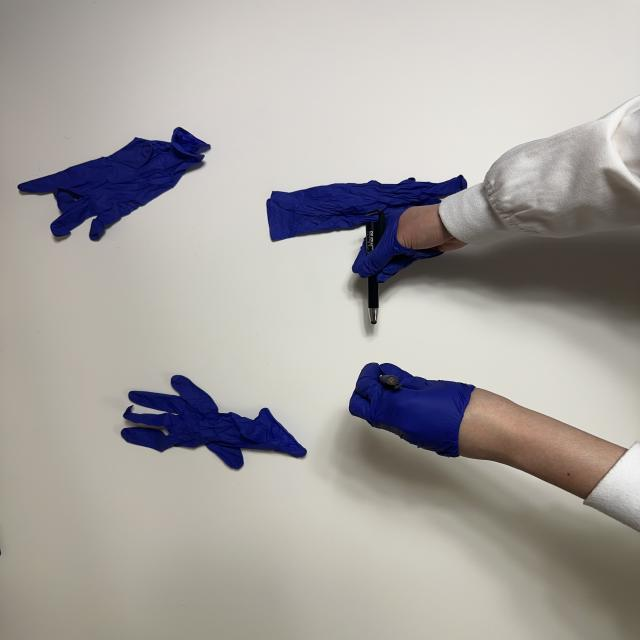glove_not_fitted: (351, 360, 512, 460), (346, 197, 472, 283)
